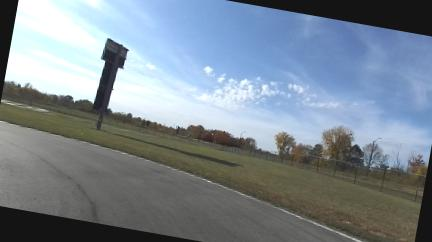Grass: (0, 104, 420, 241)
Lane: (0, 123, 355, 241)
